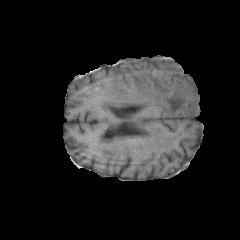glioma: (100, 63, 199, 143)
